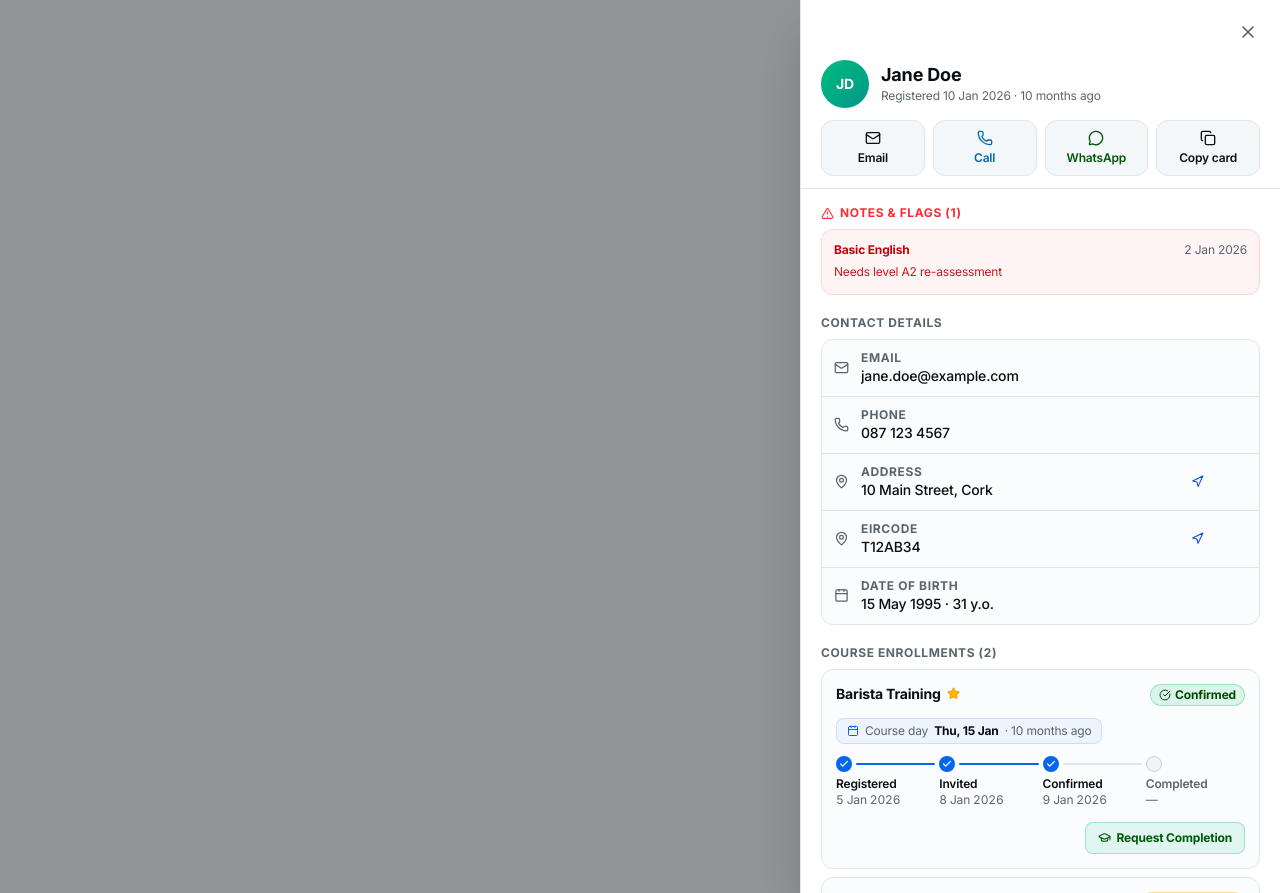
it: StudentDetailDrawer Component › opens the completion modal (defaulting to the course day) and submits the request
The image size is (1280, 893).
Expected: the heading "Barista Training" is shown, x1=836 y1=684 x2=941 y2=703
Click the button "Request Completion": (1165, 838) x1=1084 y1=822 x2=1245 y2=854
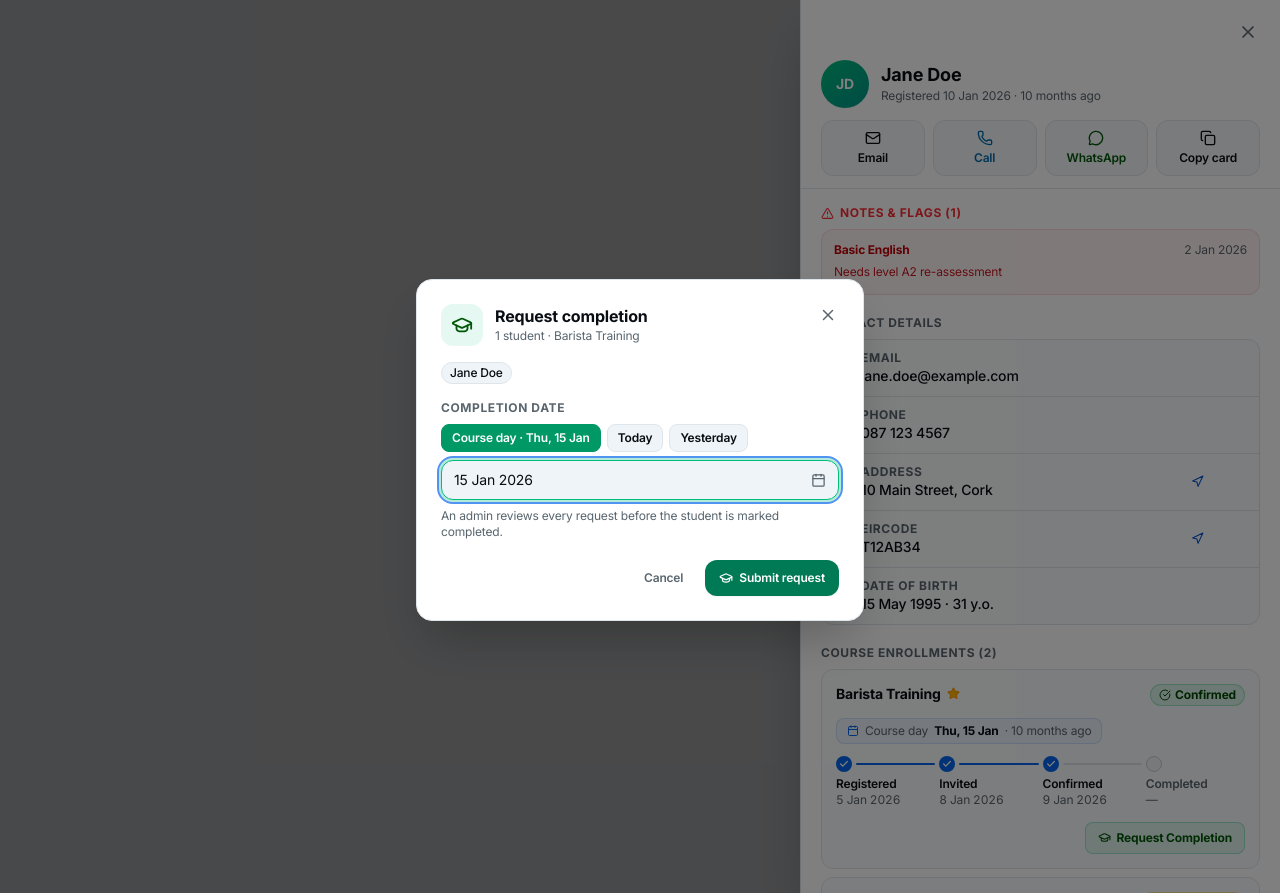
Expected: the dialog "Request completion" shows "Barista Training", x1=544 y1=328 x2=640 y2=343
Expected: the button named "Completion date" reads "15 Jan 2026", x1=441 y1=460 x2=839 y2=500
Click the button "Submit request": (772, 578) x1=705 y1=560 x2=839 y2=596
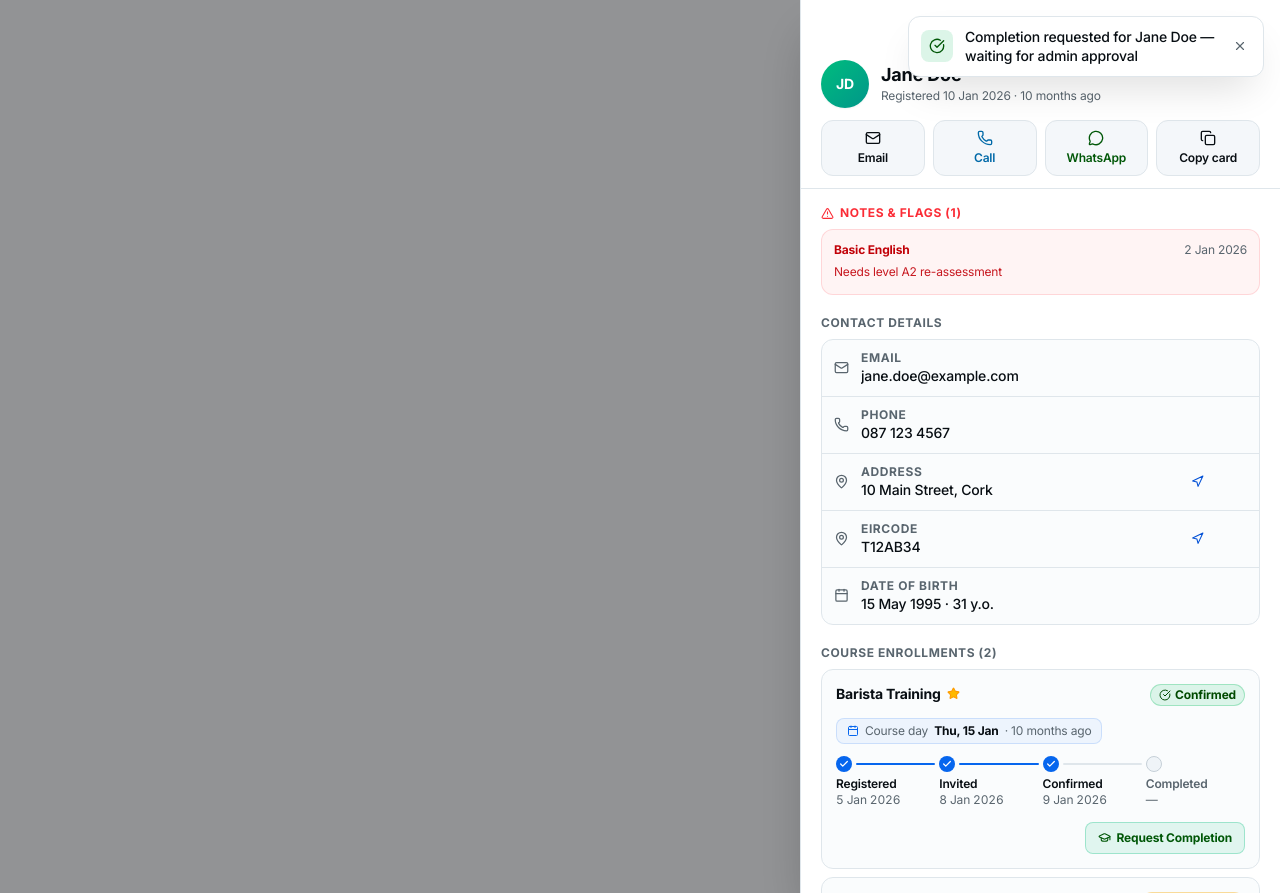
Expected: the text "waiting for admin approval" is shown, x1=965 y1=28 x2=1214 y2=64
